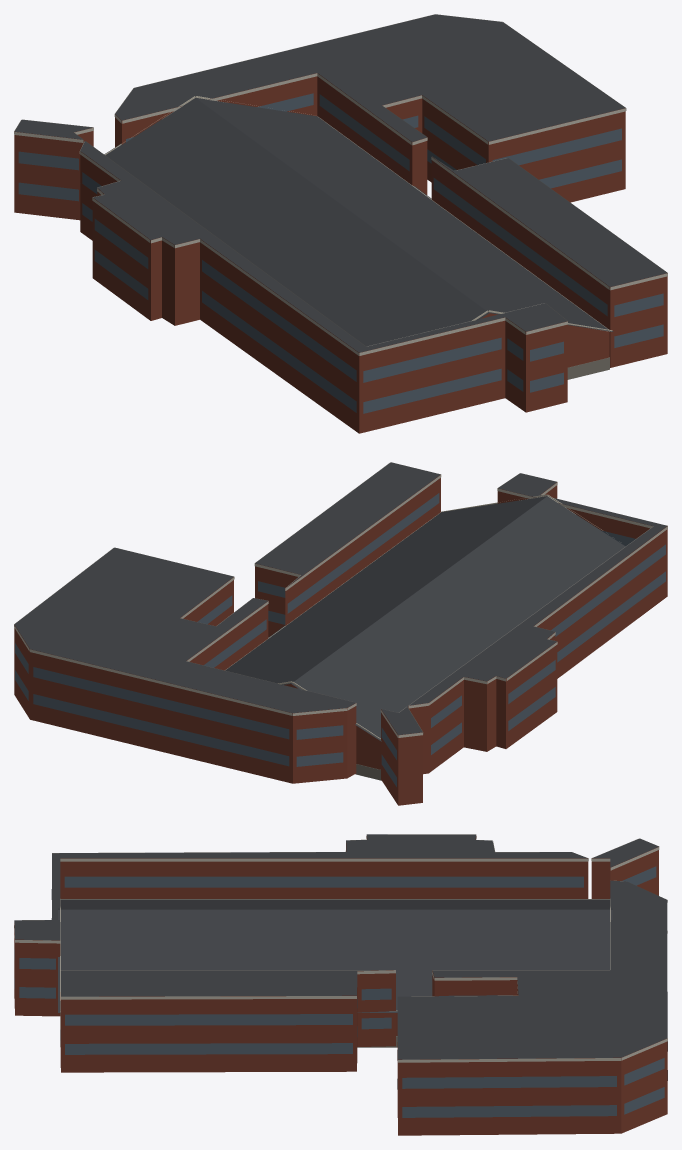
The model's file is markham-street-baptist.glb.
3 views of the same model, one above another, from view 1: azimuth 30°, elevation 25°; view 2: azimuth 150°, elevation 25°; view 3: azimuth 270°, elevation 25° (orthographic). The views are drawn at different scales.
Visible parts, largest first — view 1: markham_street_baptist; view 2: markham_street_baptist; view 3: markham_street_baptist.
Part boxes in pixels (x1,y1,x2,y2): markham_street_baptist: [14, 14, 667, 433]; markham_street_baptist: [14, 462, 667, 805]; markham_street_baptist: [14, 834, 667, 1135].
Bounding box in the file's own units: 74.84 × 13.02 × 91.7.
